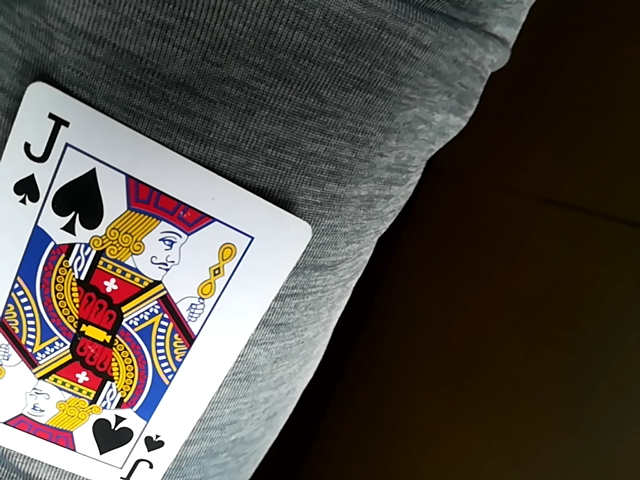ht j: (0, 80, 310, 475)
